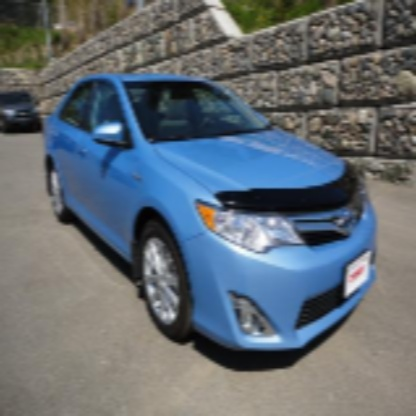Vehicle: (44, 73, 378, 353)
